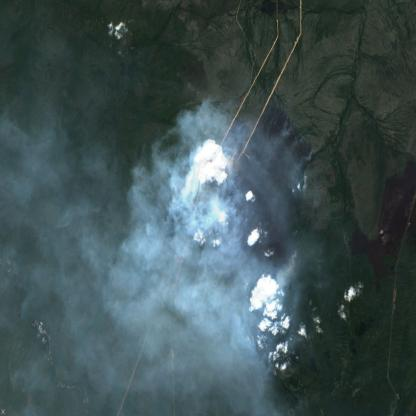fire: (209, 103, 308, 308)
